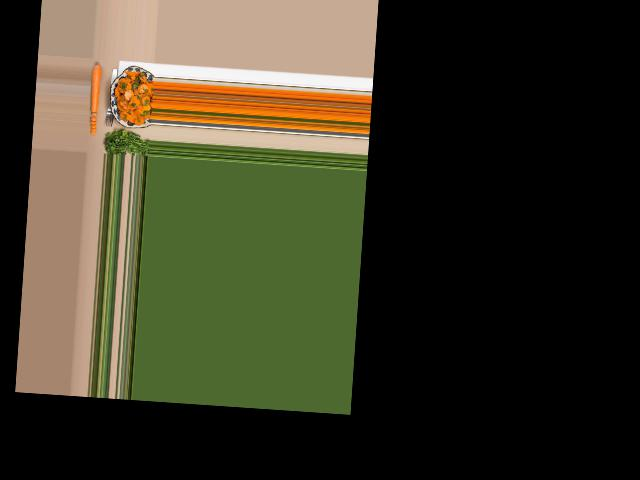carrot: (88, 62, 101, 112)
